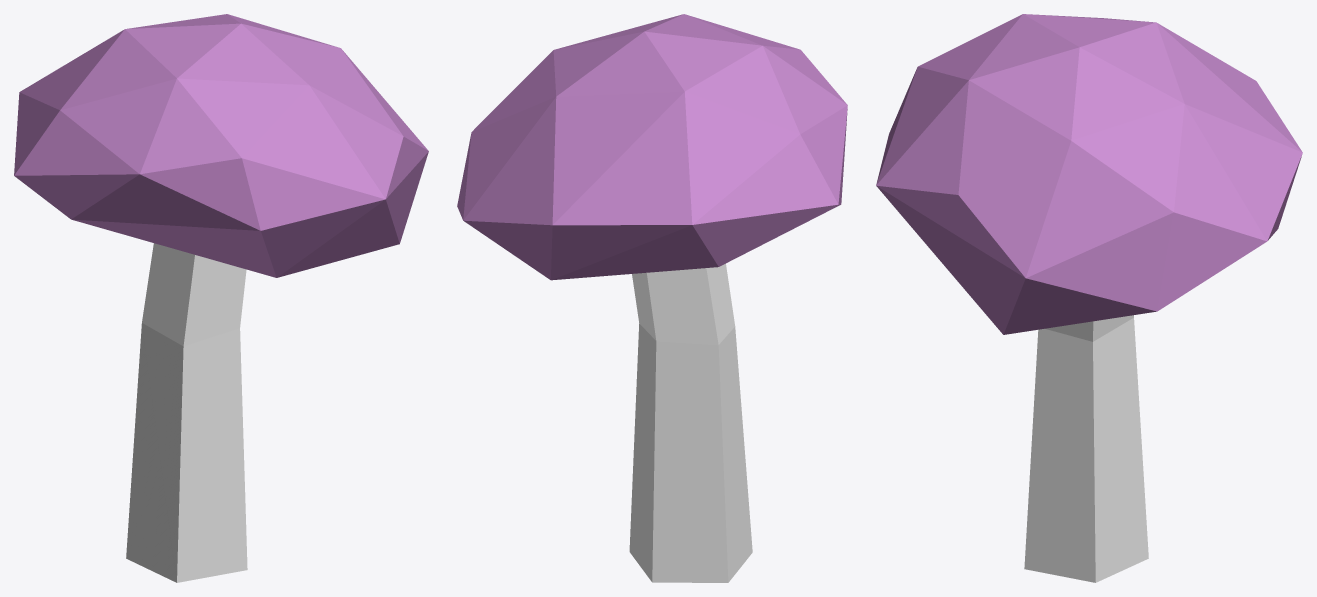
The model's file is mushroom1.fbx.
The picture shows the model from 3 angles, left to right: view 1: azimuth 30°, elevation 25°; view 2: azimuth 150°, elevation 25°; view 3: azimuth 270°, elevation 25°; orthographic projection. The views are drawn at different scales.
Visible parts, largest first — view 1: Mushroom_k_03; view 2: Mushroom_k_03; view 3: Mushroom_k_03.
Boxes of the visible parts, x1=… form: Mushroom_k_03: x1=14, y1=14, x2=428, y2=582; Mushroom_k_03: x1=457, y1=14, x2=847, y2=582; Mushroom_k_03: x1=876, y1=14, x2=1302, y2=582.
Bounding box in the file's own units: 23.62 × 24.32 × 32.49.
1 material, 1 textured.
